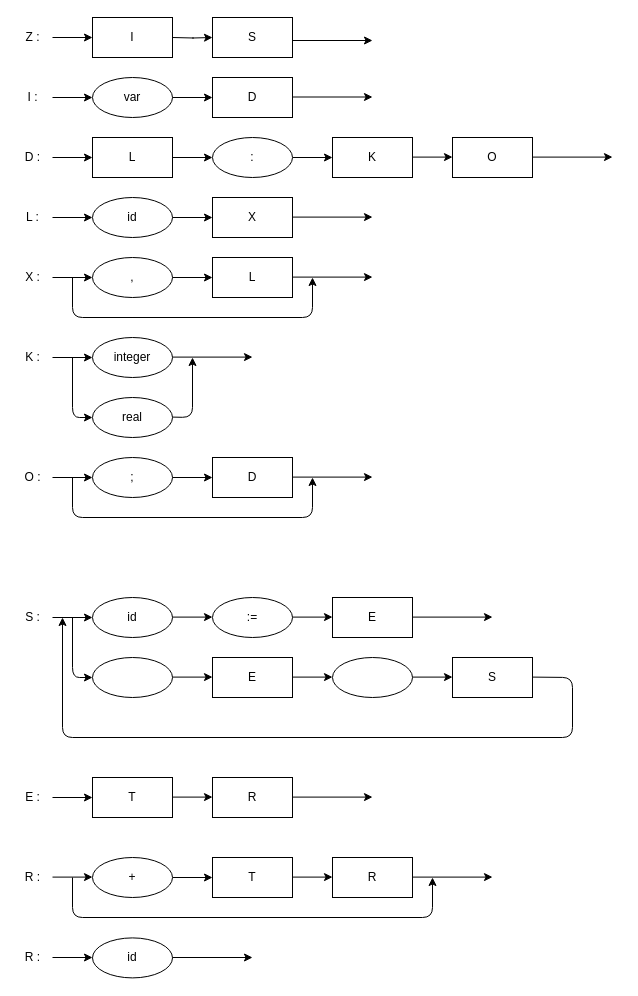
Some shapes in this 638 by 996 pixel diagram are drawn without their labels. The shapes that lost their labels are listed below. From the top down, each one's centre as x and y in pixels, then its label:
point (132, 677): if
point (372, 677): then
